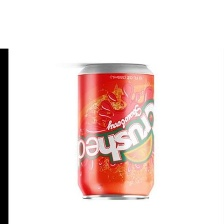can: (73, 58, 159, 204)
